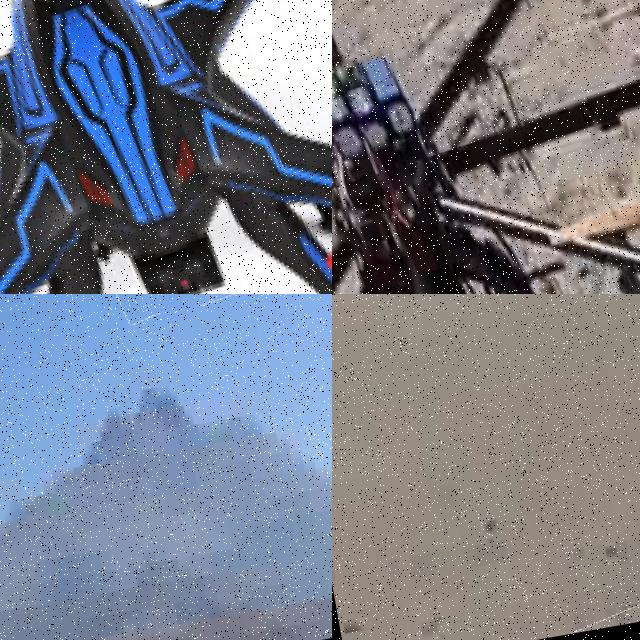0: (332, 0, 640, 294)
drone: (0, 0, 332, 294)
